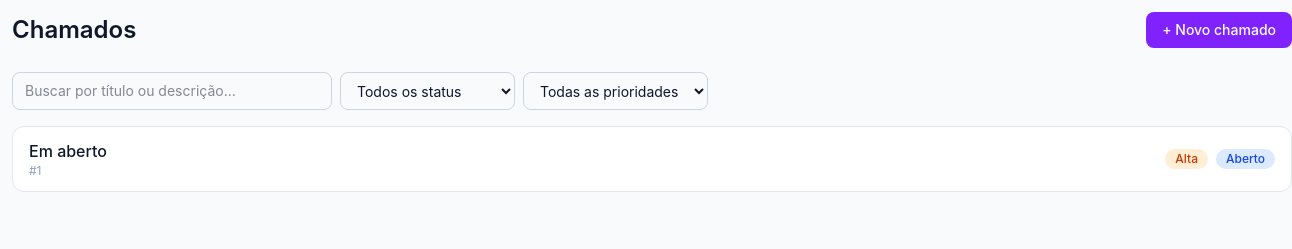
TicketsPage › envia a busca por texto após o debounce e mostra vazio filtrado
Expected: the text "Em aberto" is shown, [29,139,107,163]
Type "impressora" into the search field named "Buscar chamados" at [172, 91], box [12,72,332,110]
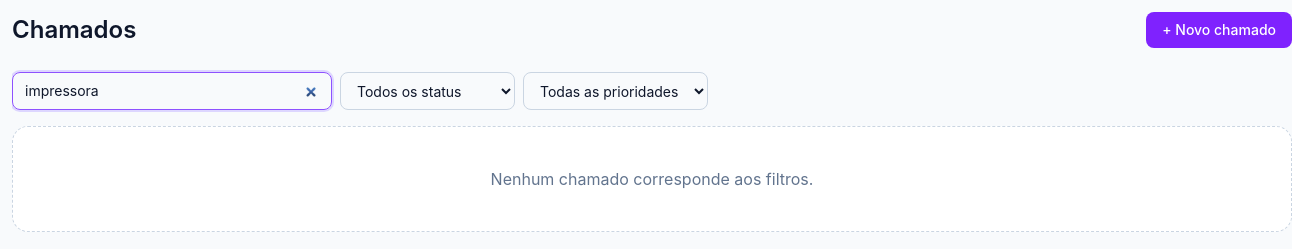
Now the text "Nenhum chamado corresponde aos filtros." is shown, box [12,126,1291,232]
